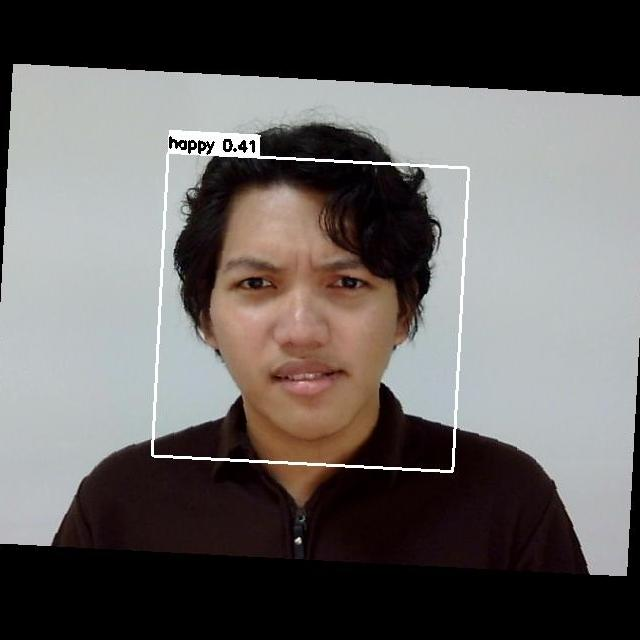Angry: (204, 230, 402, 416)
